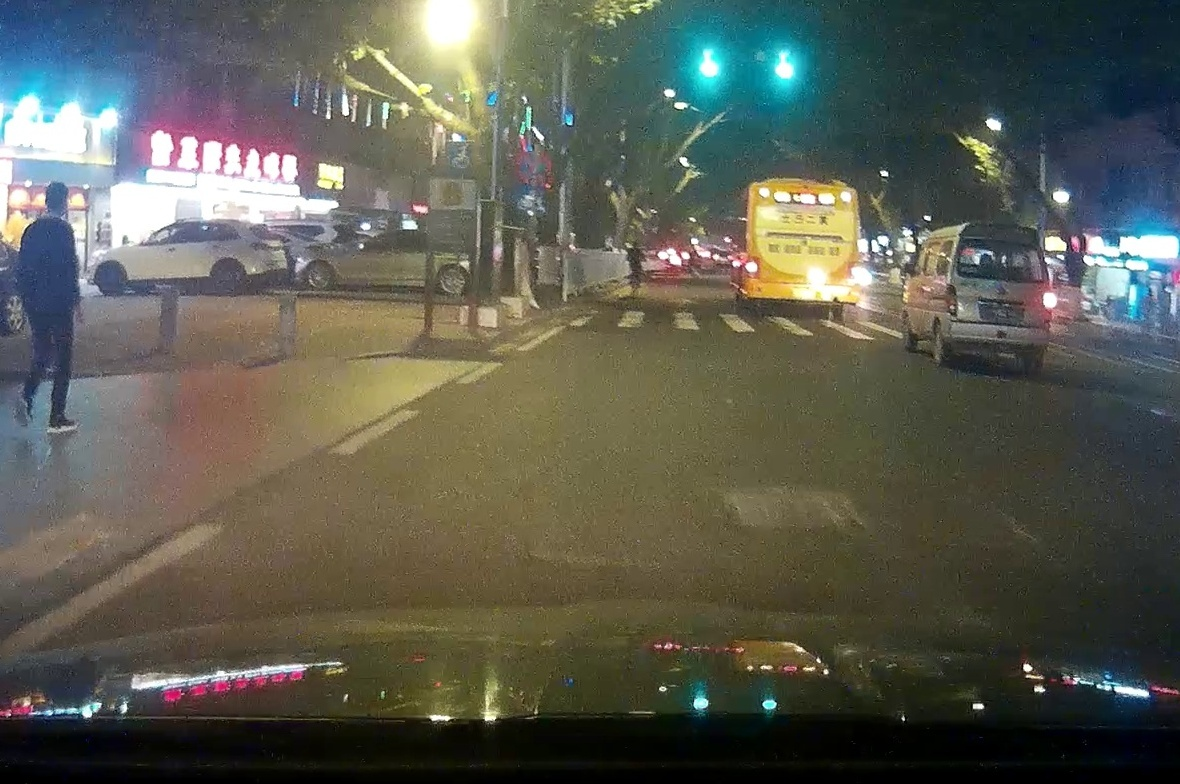L_light: (944, 285, 956, 314), (744, 257, 758, 279)
R_light: (1042, 289, 1057, 314), (848, 262, 858, 283)
T_light: (795, 186, 812, 191), (990, 241, 1009, 245)
night-no: (744, 182, 859, 321)
night-right: (943, 222, 1057, 373)
